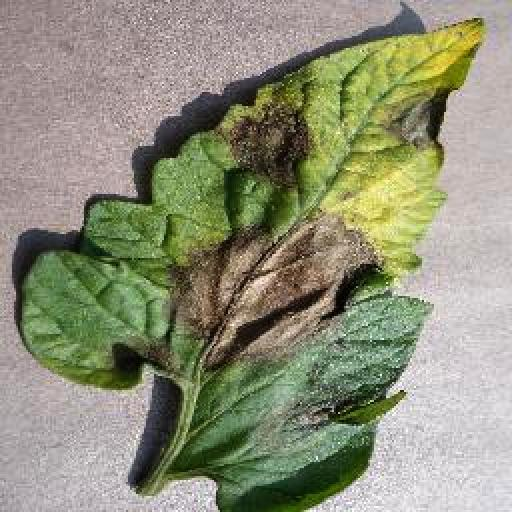disease_tomato: (17, 14, 487, 512)
